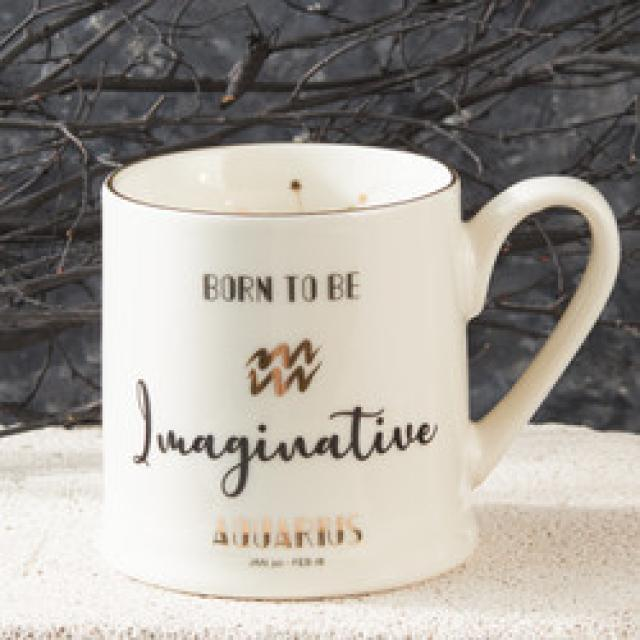Coffee Mug: (97, 138, 622, 604)
